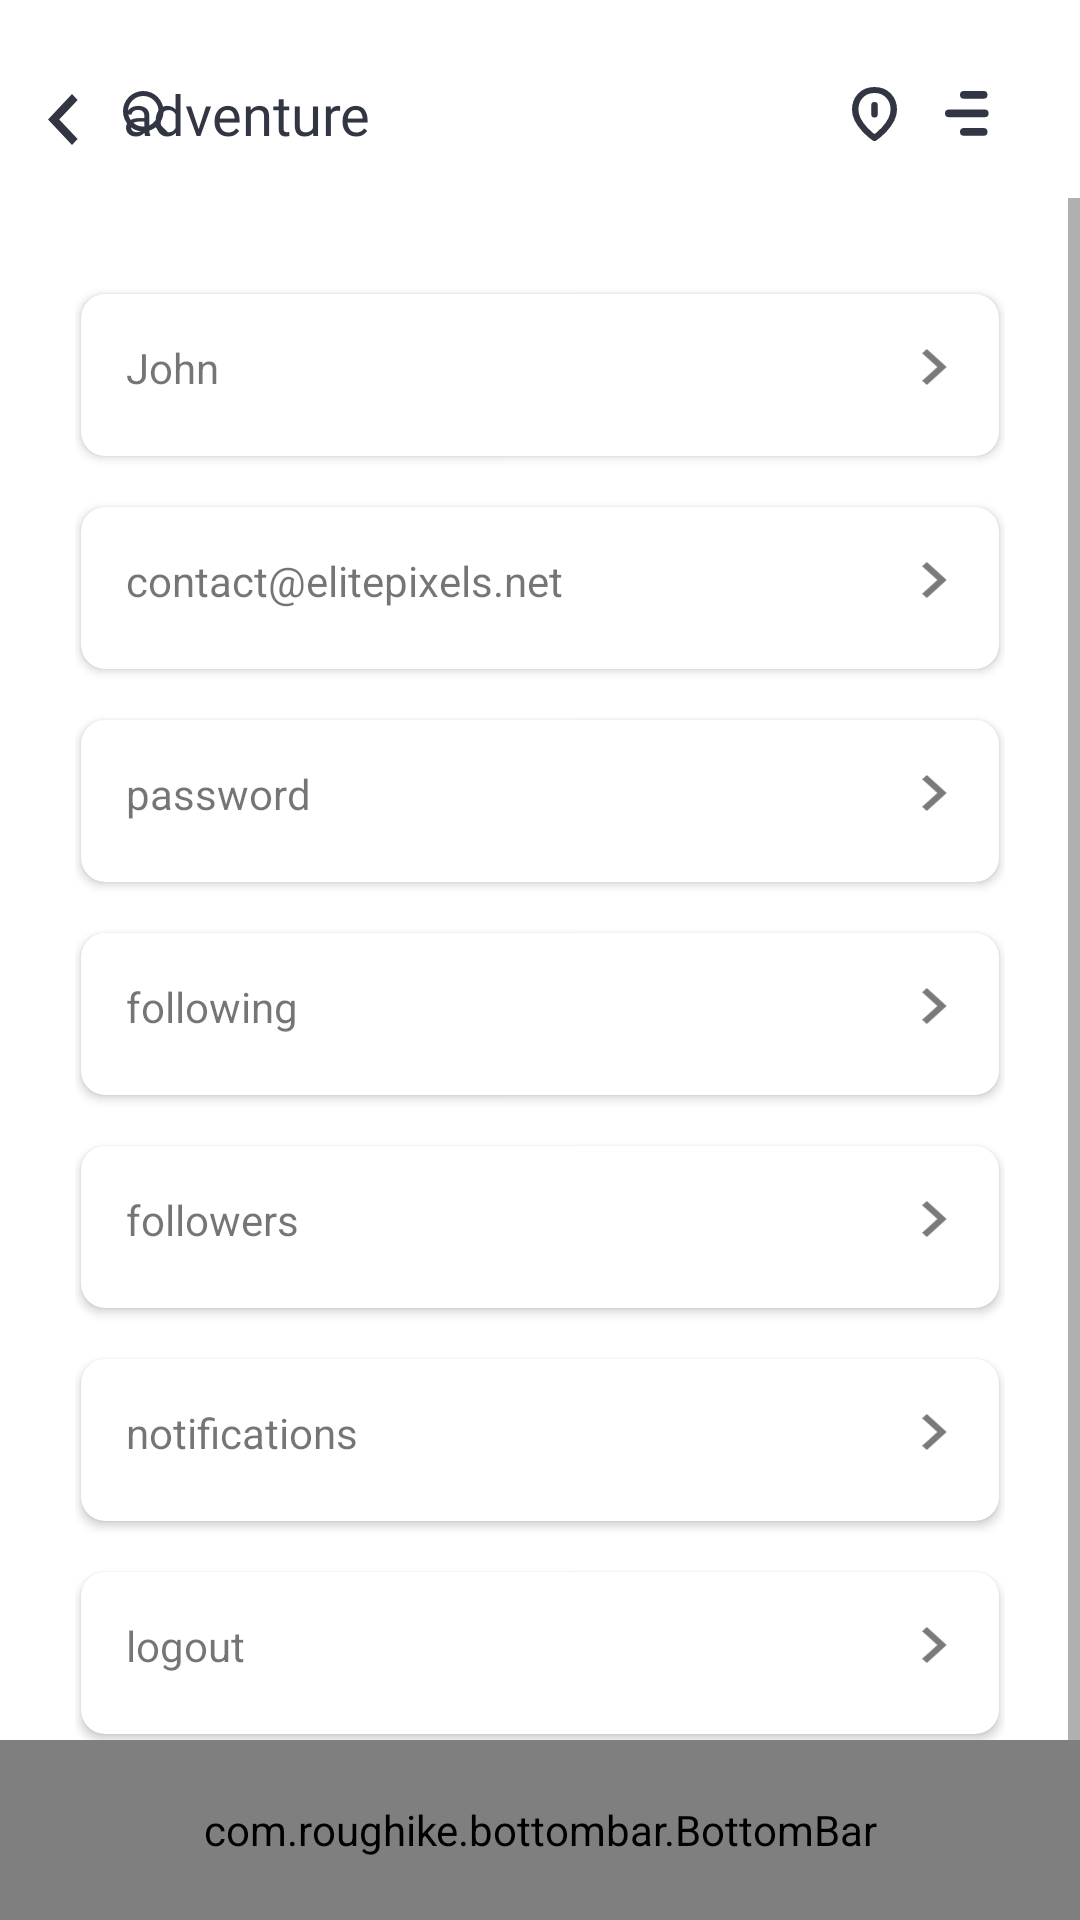

Locate icon controls on the screen. Image size 1080px×1920px, boxes as {"left": x1, "top": y1, "right": x2, "bottom": y2}.
location: {"left": 852, "top": 87, "right": 897, "bottom": 141}
menu: {"left": 945, "top": 91, "right": 989, "bottom": 136}
